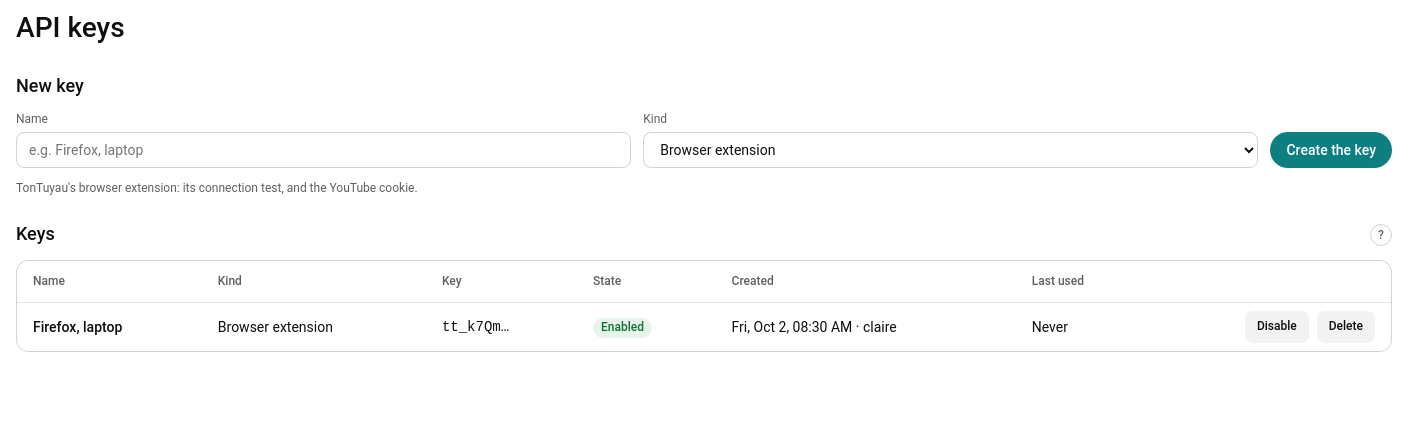
Test: ApiKeysPage › asks before deleting a key; “Keep it” leaves it
The width and height of the screenshot is (1409, 422).
Click the button with aria-label "Delete “Firefox, laptop”" at (1346, 327), box [1317,311,1375,343]
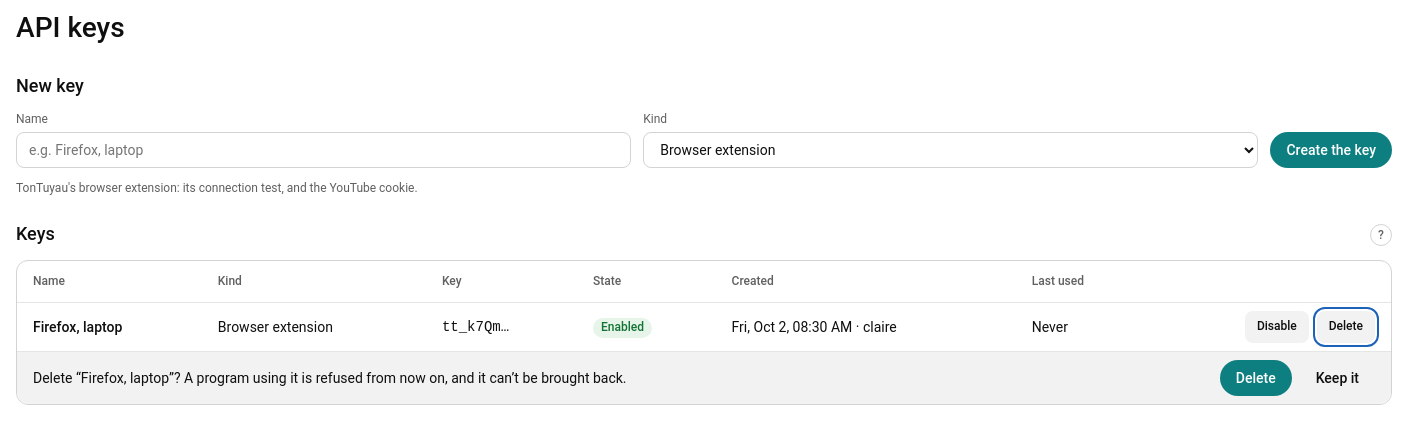
expect the element "Delete “Firefox, laptop”" shows "A program using it is refused from now on": met, box [33,370,626,386]
Click the button "Keep it" at (1337, 378), box [1300,360,1375,396]
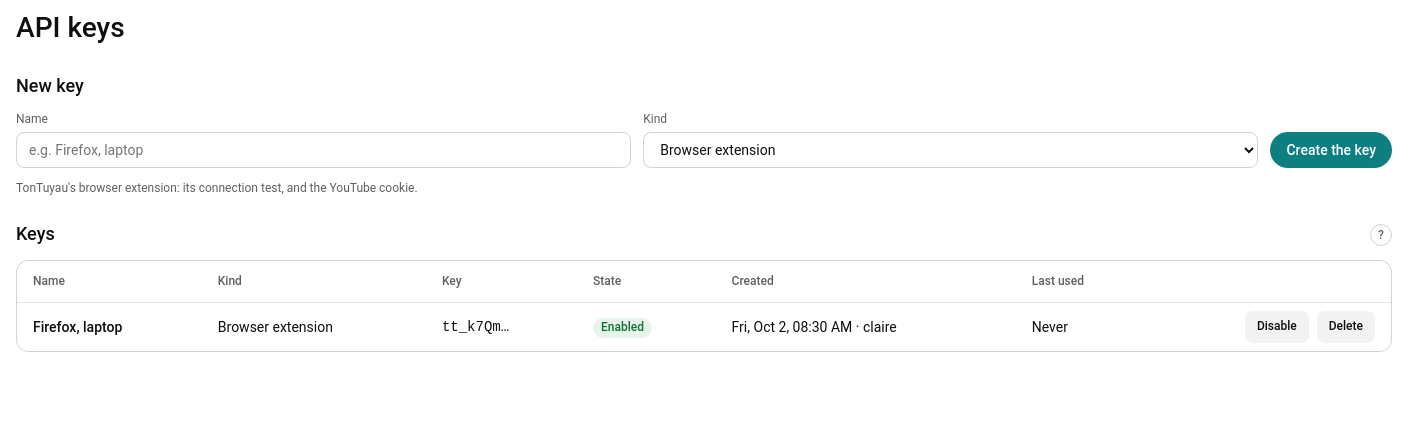
Click the button with aria-label "Delete “Firefox, laptop”" at (1346, 327), box [1317,311,1375,343]
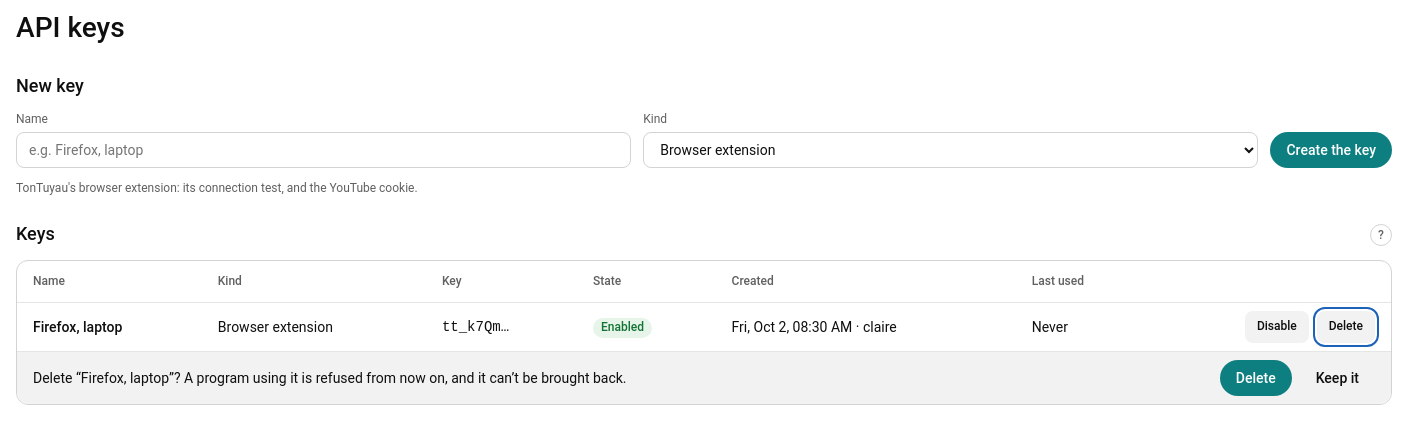
Click the 2nd button "Delete" at (1256, 378), box [1220,360,1292,396]
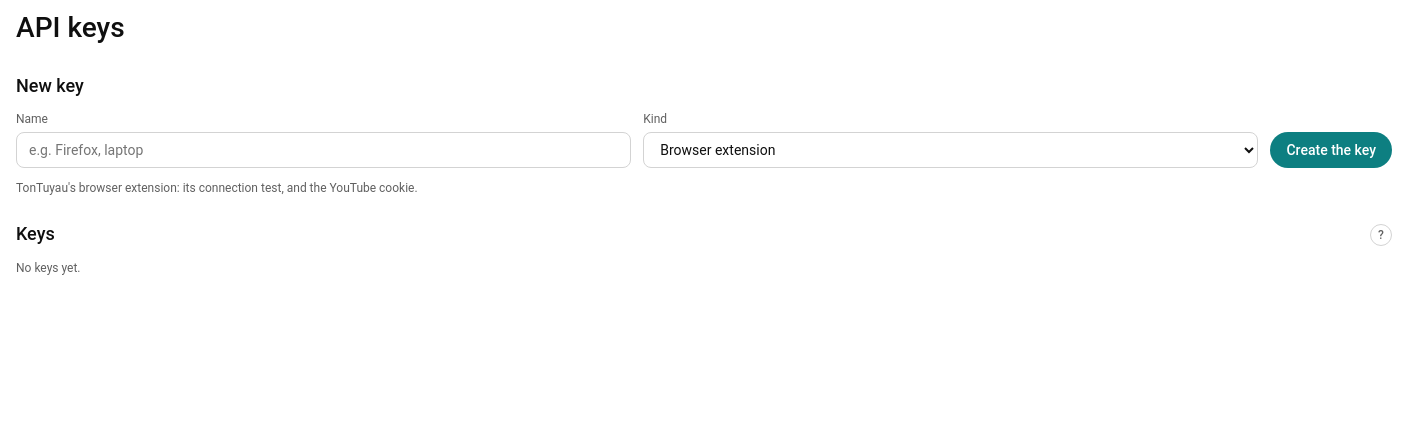
expect the text "No keys yet." is shown: met, box [16,261,80,275]
